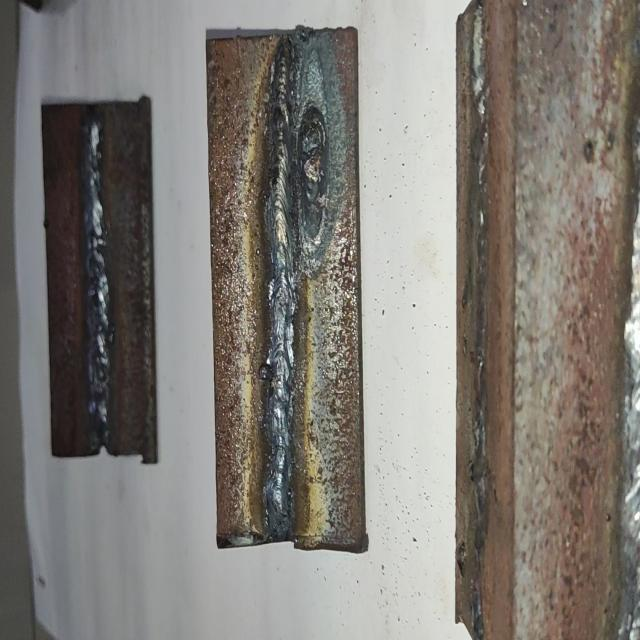Defect: (263, 99, 336, 260)
Welding Line: (272, 41, 297, 536), (473, 11, 489, 632), (83, 118, 107, 450)
Workpiece: (454, 0, 640, 640), (206, 26, 367, 558), (41, 90, 162, 468)
